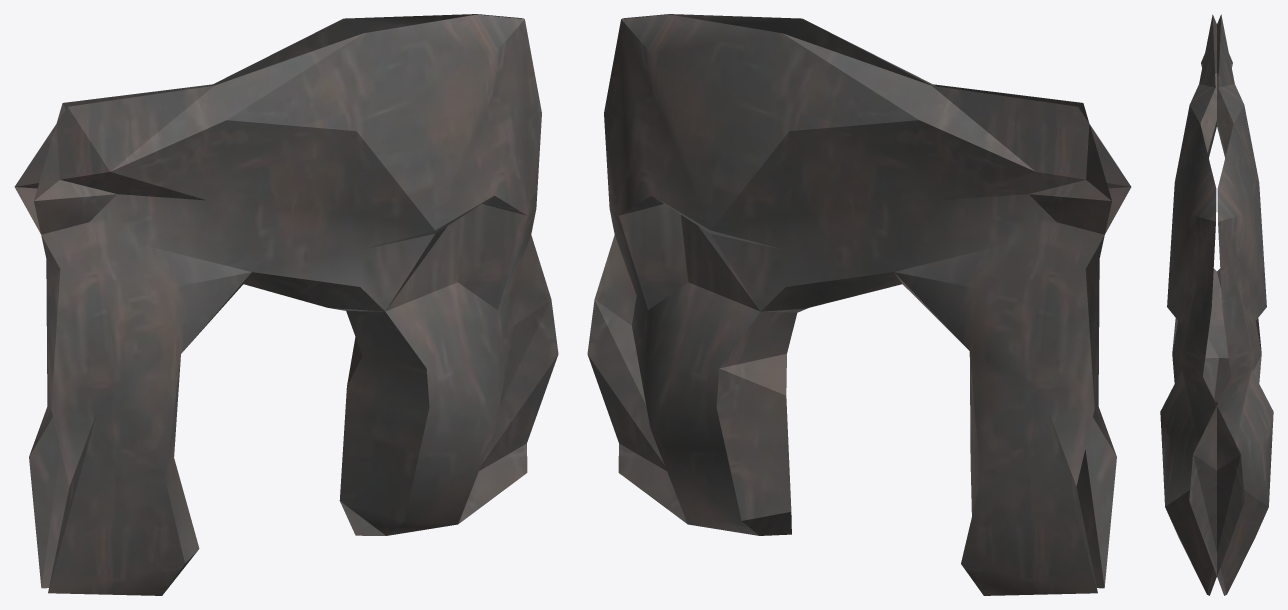
File: cave_entrance.glb
3 renders of one model, left to right at view 1: azimuth 30°, elevation 25°; view 2: azimuth 150°, elevation 25°; view 3: azimuth 270°, elevation 25°, orthographic. The views are drawn at different scales.
Parts seen in each view (by area): view 1: Wall_Caves_Entrance_A; view 2: Wall_Caves_Entrance_A; view 3: Wall_Caves_Entrance_A.
Part boxes in pixels (x1,y1,x2,y2): Wall_Caves_Entrance_A: [14, 14, 558, 595]; Wall_Caves_Entrance_A: [587, 14, 1131, 595]; Wall_Caves_Entrance_A: [1160, 14, 1273, 595].
Size of what is drawn, in the model's own units: 4.89 by 4.68 by 1.11.
Materials: 1 (1 with a texture image).
